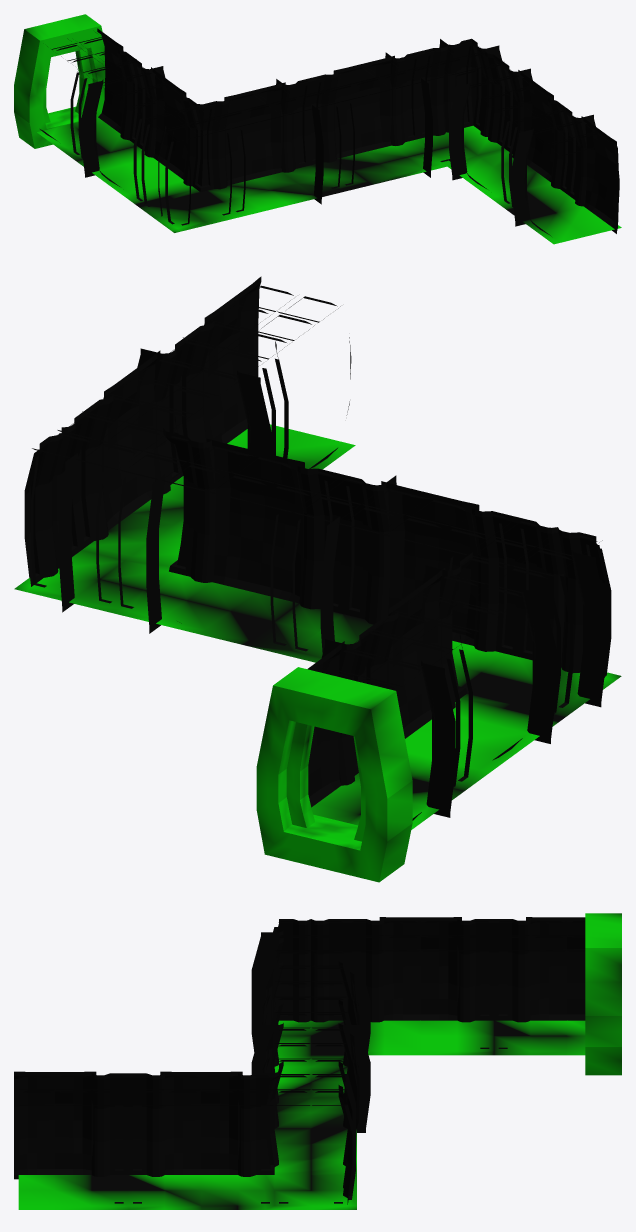
File: entrance_access.glb
The picture shows the model from 3 angles, top to bottom: view 1: azimuth 30°, elevation 25°; view 2: azimuth 150°, elevation 25°; view 3: azimuth 270°, elevation 25°; orthographic projection. The views are drawn at different scales.
Parts seen in each view (by area): view 1: Entrance_Access_Wall_Panels, Entrance_Access_Floor, Entrance_Access_Stone_Wall, Entrance_Access_Doorframes, Entrance_Access_Ceiling; view 2: Entrance_Access_Wall_Panels, Entrance_Access_Stone_Wall, Entrance_Access_Floor, Entrance_Access_Doorframes, Entrance_Access_Ceiling; view 3: Entrance_Access_Wall_Panels, Entrance_Access_Stone_Wall, Entrance_Access_Floor, Entrance_Access_Doorframes, Entrance_Access_Ceiling.
Boxes of the visible parts, <box> form: Entrance_Access_Wall_Panels: <box>70,38,595,226</box>; Entrance_Access_Floor: <box>37,117,621,244</box>; Entrance_Access_Stone_Wall: <box>40,28,619,236</box>; Entrance_Access_Doorframes: <box>14,14,105,148</box>; Entrance_Access_Ceiling: <box>47,32,614,155</box>; Entrance_Access_Wall_Panels: <box>24,320,611,817</box>; Entrance_Access_Stone_Wall: <box>103,276,535,820</box>; Entrance_Access_Floor: <box>14,424,621,829</box>; Entrance_Access_Doorframes: <box>256,667,412,882</box>; Entrance_Access_Ceiling: <box>32,285,602,688</box>; Entrance_Access_Wall_Panels: <box>91,919,530,1204</box>; Entrance_Access_Stone_Wall: <box>14,917,585,1179</box>; Entrance_Access_Floor: <box>18,1020,585,1209</box>; Entrance_Access_Doorframes: <box>585,913,621,1075</box>; Entrance_Access_Ceiling: <box>19,921,585,1105</box>.
Size of what is drawn, in the model's own units: 13.25 by 3.75 by 16.62.
